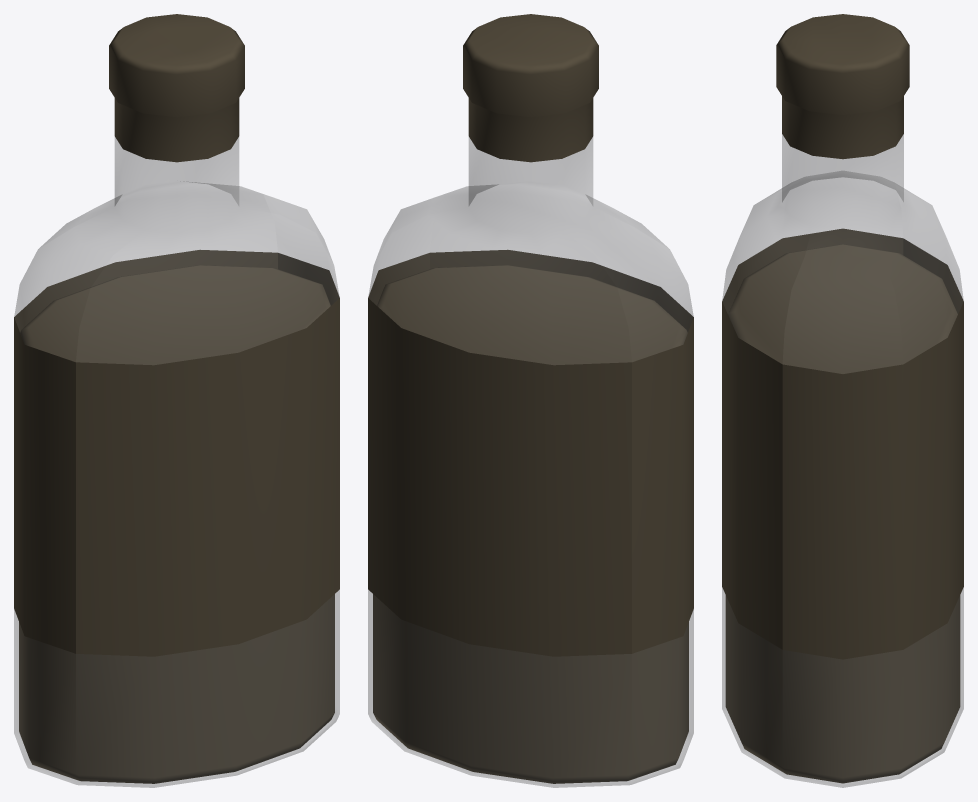
The model's file is Bottle6.fbx.
The picture shows the model from 3 angles, left to right: view 1: azimuth 30°, elevation 25°; view 2: azimuth 150°, elevation 25°; view 3: azimuth 270°, elevation 25°; orthographic projection. The views are drawn at different scales.
Visible parts, largest first — view 1: Bottle6, Liquid; view 2: Bottle6, Liquid; view 3: Bottle6, Liquid.
Boxes of the visible parts, <box> form: Bottle6: <box>14,14,339,787</box>; Liquid: <box>19,265,334,783</box>; Bottle6: <box>368,14,693,787</box>; Liquid: <box>373,265,688,783</box>; Bottle6: <box>722,14,963,787</box>; Liquid: <box>725,244,960,783</box>.
Size of the model in its own units: 0.0174 by 0.0379 by 0.0122.
